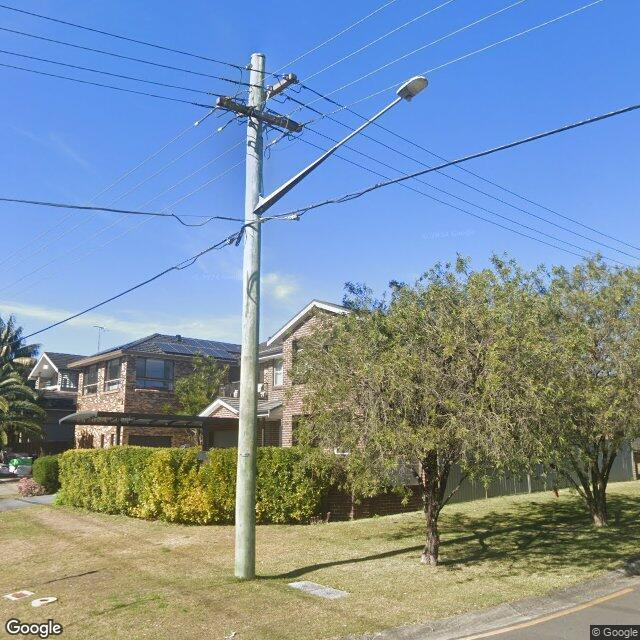crossarm: (216, 95, 302, 134), (266, 72, 302, 98)
streetlight: (258, 75, 429, 214)
timber-pole: (234, 51, 265, 582)
